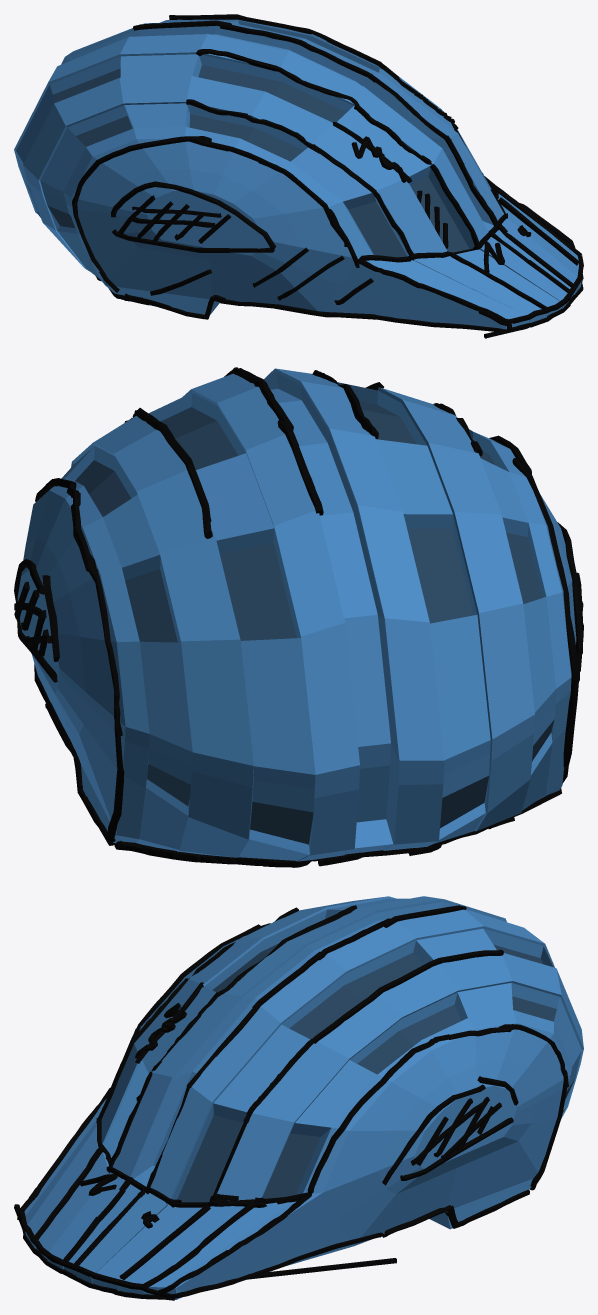
File: bike_helmet.glb
The picture shows the model from 3 angles, top to bottom: view 1: azimuth 30°, elevation 25°; view 2: azimuth 150°, elevation 25°; view 3: azimuth 270°, elevation 25°; orthographic projection. The views are drawn at different scales.
Parts seen in each view (by area): view 1: bike_helmet_, lines_bike_helmet; view 2: bike_helmet_, lines_bike_helmet; view 3: bike_helmet_, lines_bike_helmet.
Part boxes in pixels (x1,y1,x2,y2): bike_helmet_: (14, 19, 581, 329); lines_bike_helmet: (72, 14, 583, 338); bike_helmet_: (17, 368, 576, 861); lines_bike_helmet: (14, 367, 583, 867); bike_helmet_: (24, 896, 583, 1299); lines_bike_helmet: (14, 905, 568, 1300).
Bounding box in the file's own units: 0.4952 × 0.2888 × 0.5228.
